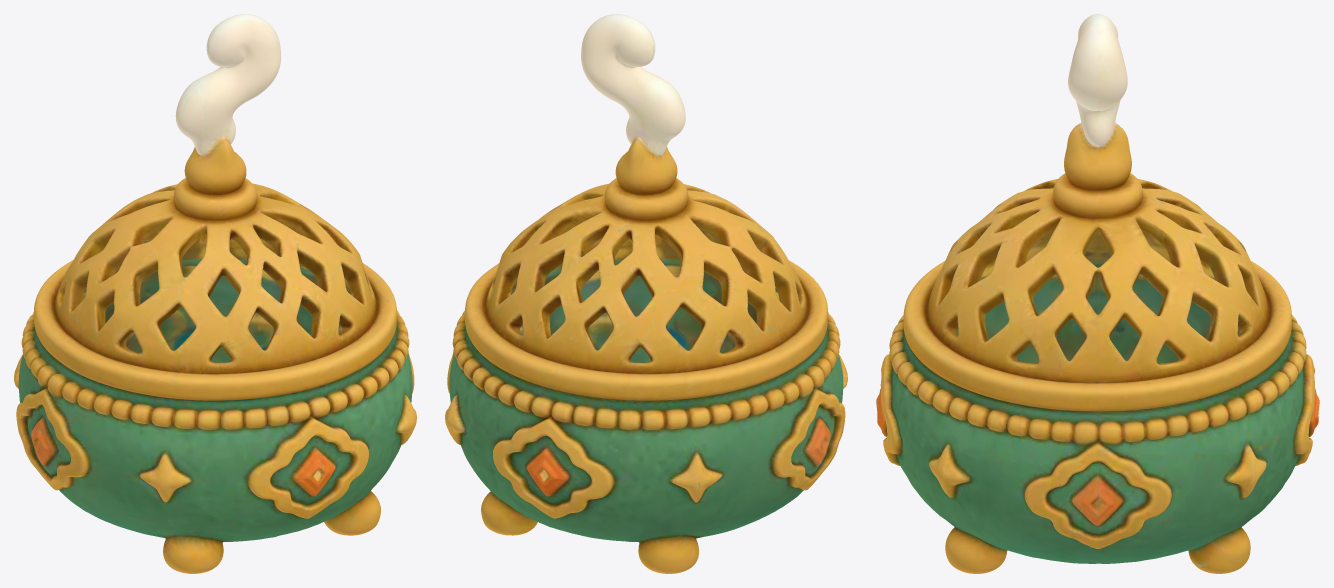
The model's file is Meshy_AI_model.glb.
3 renders of one model, left to right at view 1: azimuth 30°, elevation 25°; view 2: azimuth 150°, elevation 25°; view 3: azimuth 270°, elevation 25°, orthographic. The views are drawn at different scales.
Parts seen in each view (by area): view 1: mesh_node; view 2: mesh_node; view 3: mesh_node.
Part boxes in pixels (left/top/right/bottom): mesh_node: left=14, top=14, right=416, bottom=573; mesh_node: left=445, top=14, right=847, bottom=573; mesh_node: left=876, top=14, right=1319, bottom=573.
Bounding box in the file's own units: 1.47 × 1.9 × 1.47.
1 material, 1 textured.
